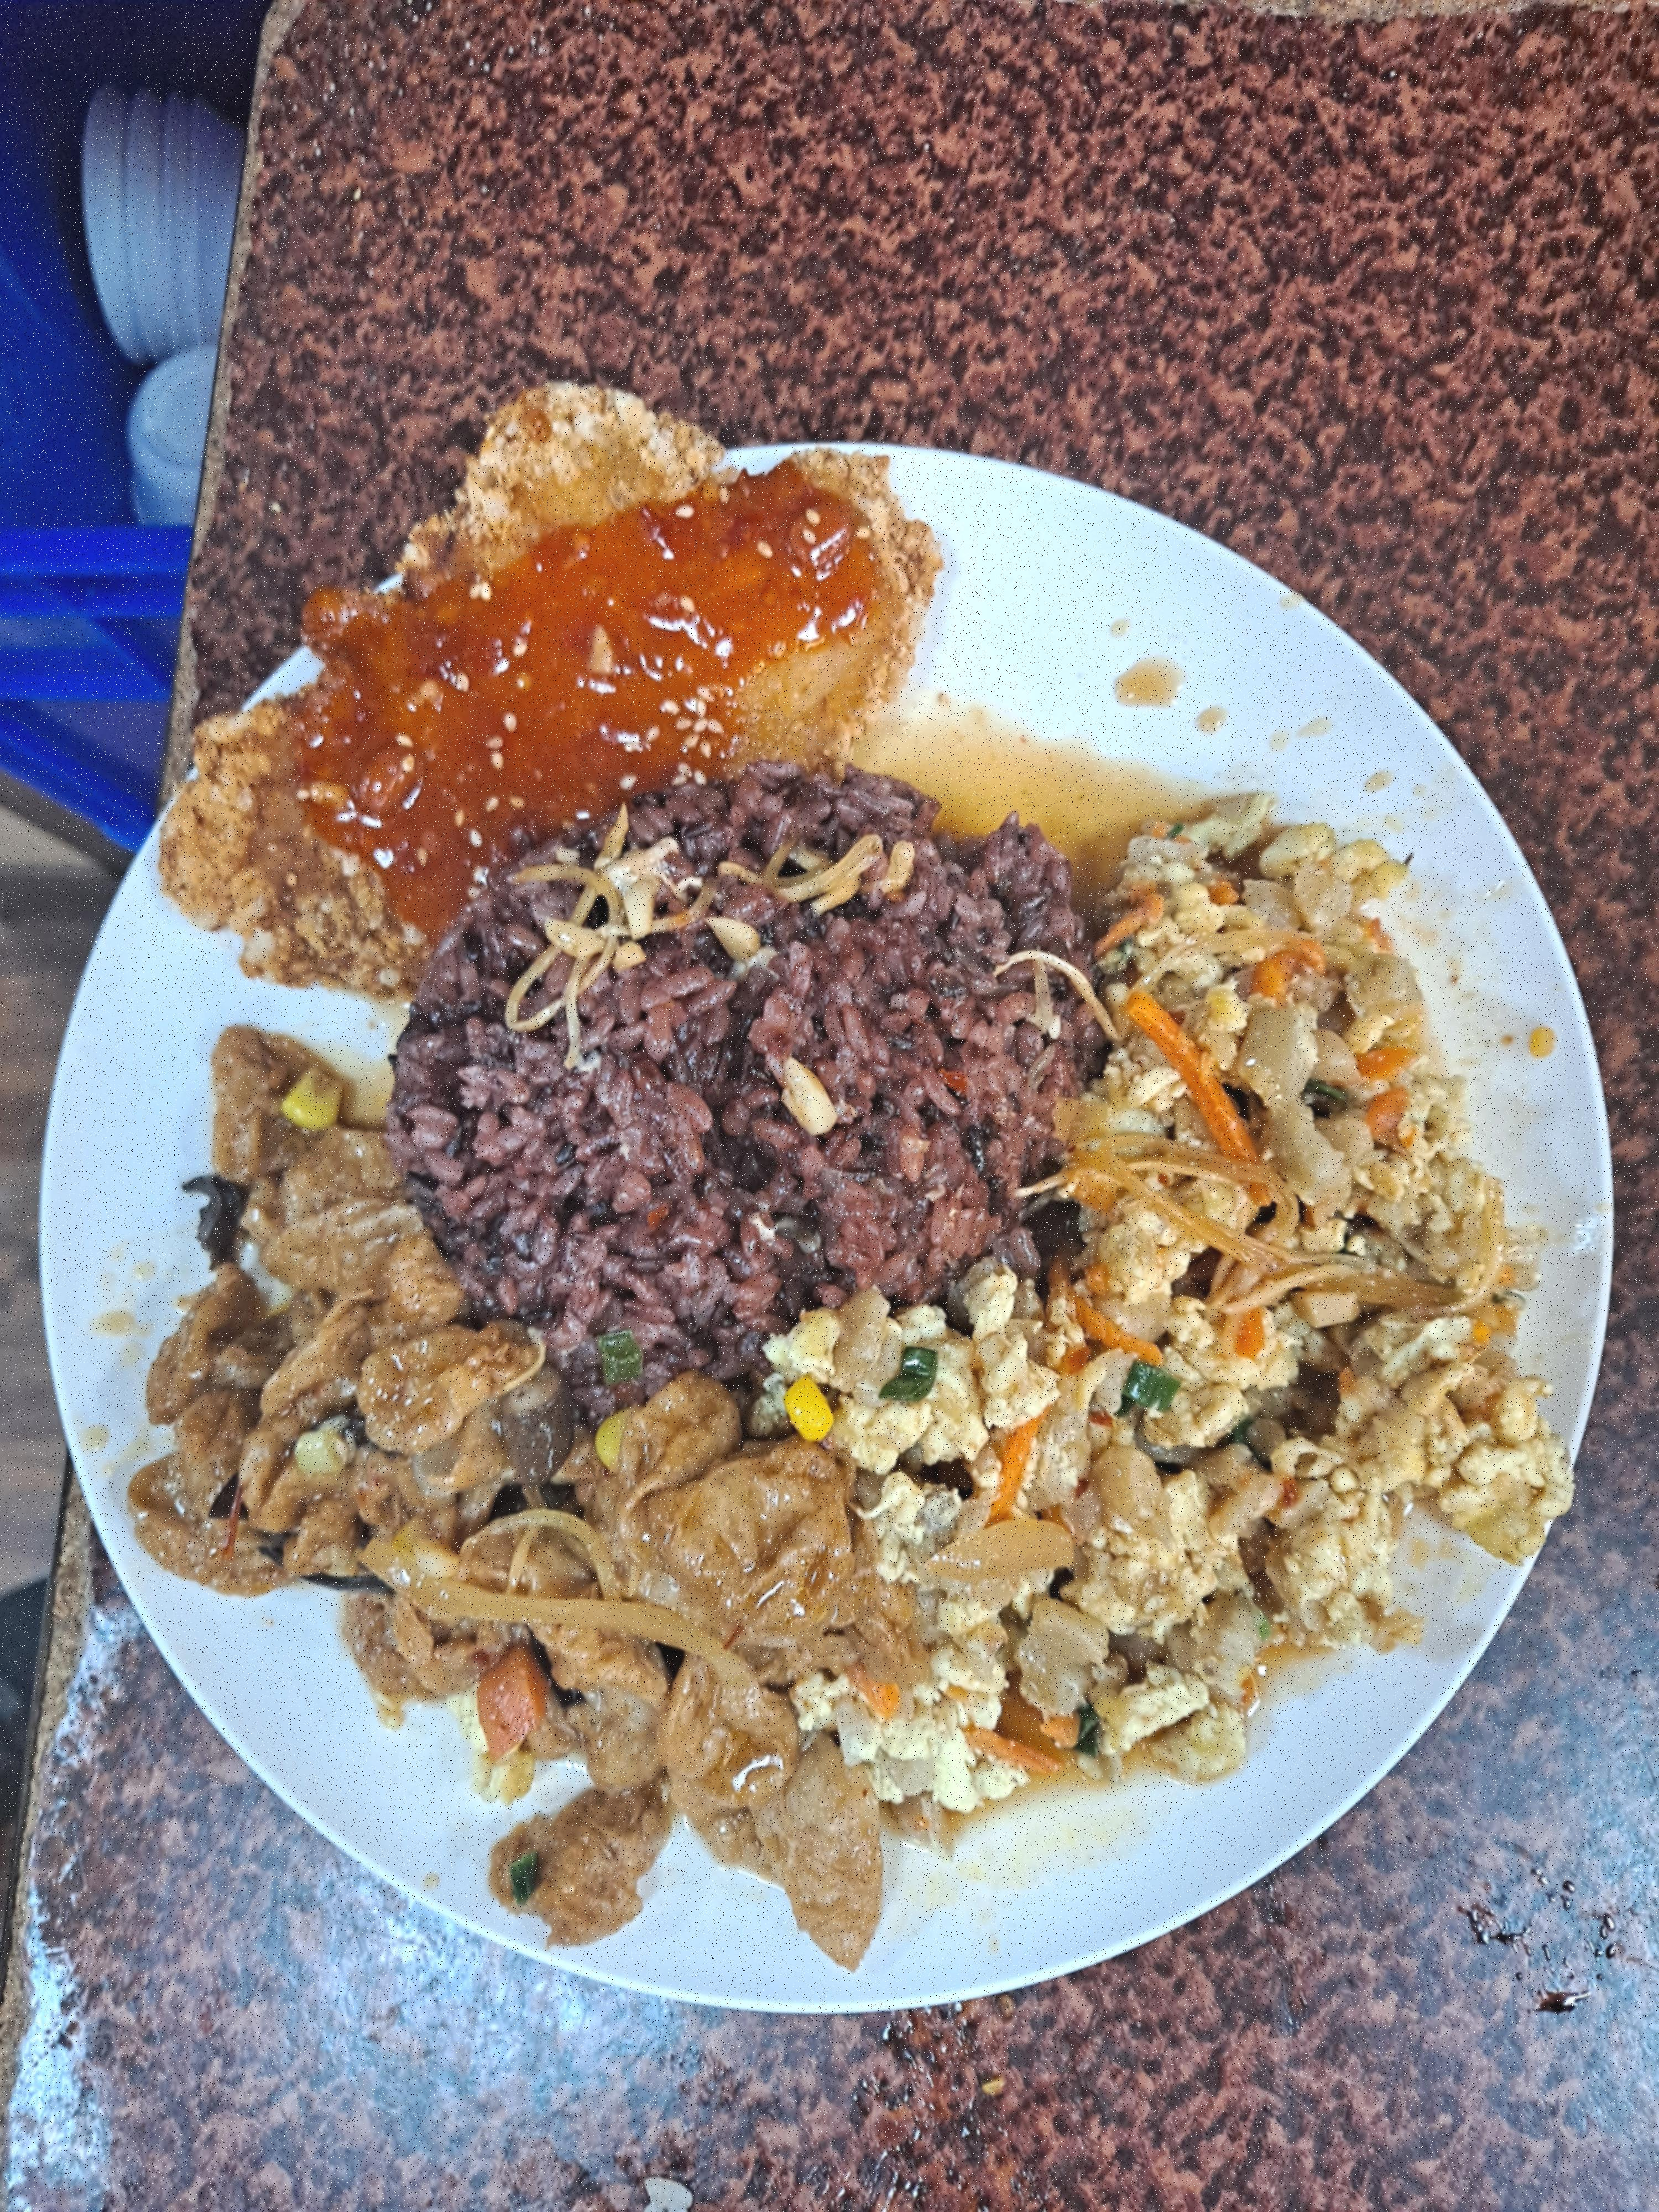big fried chicken leg: (30, 583, 1222, 2212)
braised fish: (324, 1115, 793, 1768)
braised fish fillet: (760, 1073, 1138, 2212), (96, 1709, 690, 2212)
braised pork: (150, 556, 697, 1303)
